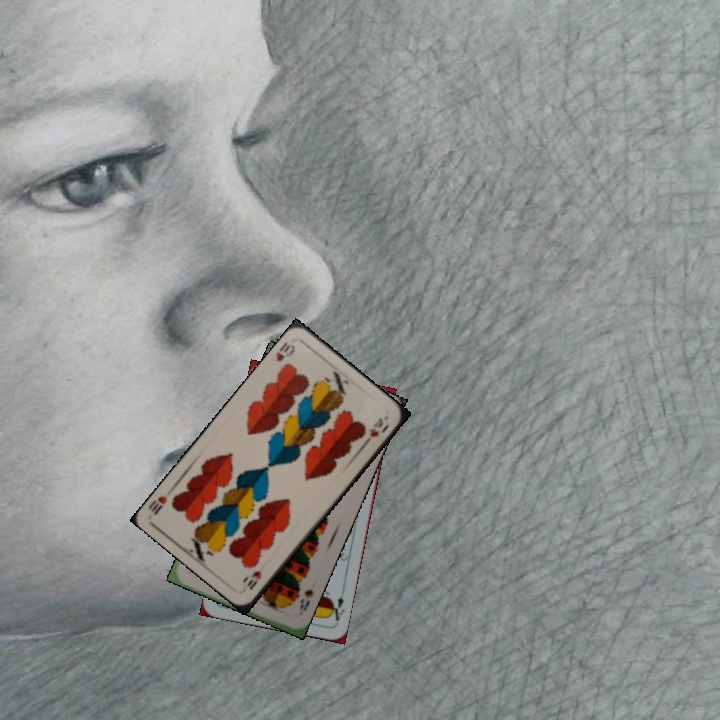EA: (325, 592, 347, 626)
H10: (272, 339, 298, 365), (243, 567, 264, 593)
S8: (295, 584, 316, 618)
